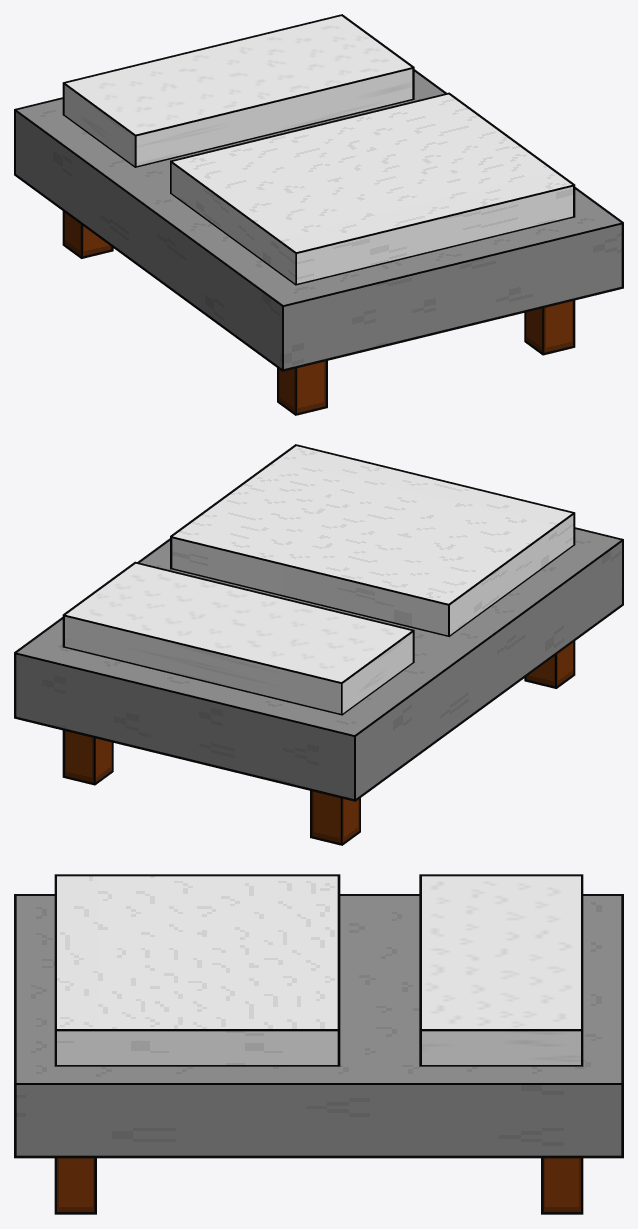
3 views of the same model, one above another, from view 1: azimuth 30°, elevation 25°; view 2: azimuth 150°, elevation 25°; view 3: azimuth 270°, elevation 25° (orthographic). The views are drawn at different scales.
Visible parts, largest first — view 1: Mattress, Blanket, Pillow, Leg_4, Leg_1, Leg_2; view 2: Mattress, Blanket, Pillow, Leg_3, Leg_2, Leg_1; view 3: Mattress, Blanket, Pillow, Leg_3, Leg_4.
Part boxes in pixels (bbox=[...]): Mattress: bbox=[14, 69, 623, 371]; Blanket: bbox=[170, 92, 575, 285]; Pillow: bbox=[62, 14, 414, 167]; Leg_4: bbox=[524, 300, 575, 355]; Leg_1: bbox=[277, 361, 327, 415]; Leg_2: bbox=[62, 211, 113, 258]; Mattress: bbox=[14, 527, 623, 801]; Blanket: bbox=[170, 444, 575, 637]; Pillow: bbox=[62, 561, 414, 715]; Leg_3: bbox=[62, 730, 113, 785]; Leg_2: bbox=[310, 791, 360, 845]; Leg_1: bbox=[524, 641, 575, 688]; Mattress: bbox=[14, 894, 623, 1158]; Blanket: bbox=[54, 874, 340, 1066]; Pillow: bbox=[419, 874, 583, 1066]; Leg_3: bbox=[541, 1158, 583, 1214]; Leg_4: bbox=[54, 1158, 96, 1214].
Bounding box in the file's own units: 2.76 × 1.26 × 3.76.
5 materials, 4 textured.
